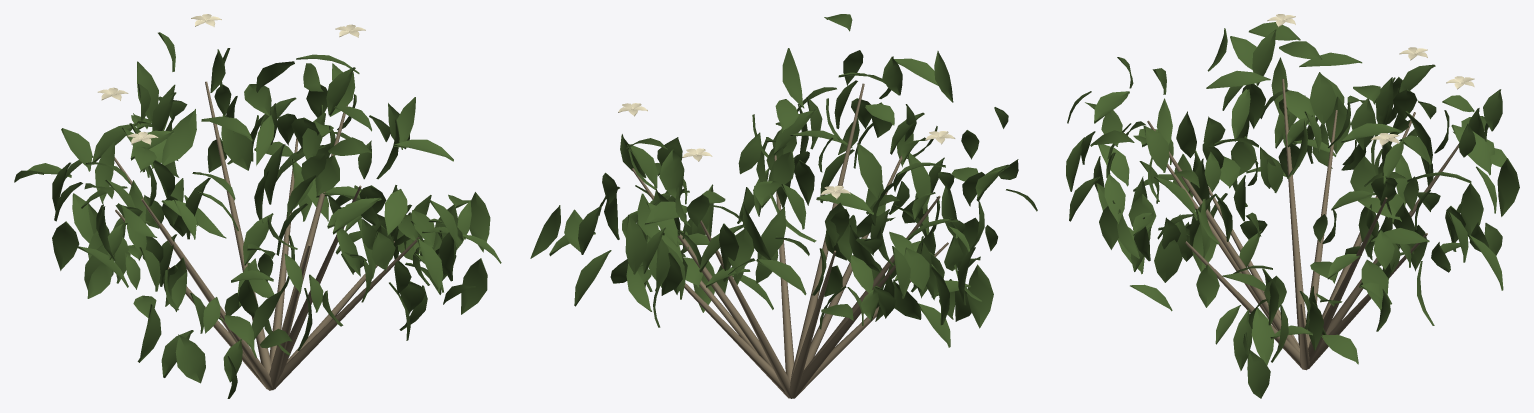
File: flowering-shrub.gltf
3 renders of one model, left to right at view 1: azimuth 30°, elevation 25°; view 2: azimuth 150°, elevation 25°; view 3: azimuth 270°, elevation 25°, orthographic. The views are drawn at different scales.
Parts seen in each view (by area): view 1: flowering-shrub; view 2: flowering-shrub; view 3: flowering-shrub.
Boxes of the visible parts, left/top/right/bottom form: flowering-shrub: left=14, top=14, right=501, bottom=398; flowering-shrub: left=530, top=14, right=1037, bottom=398; flowering-shrub: left=1066, top=14, right=1519, bottom=398.
Bounding box in the file's own units: 1.25 × 0.8696 × 1.21.
